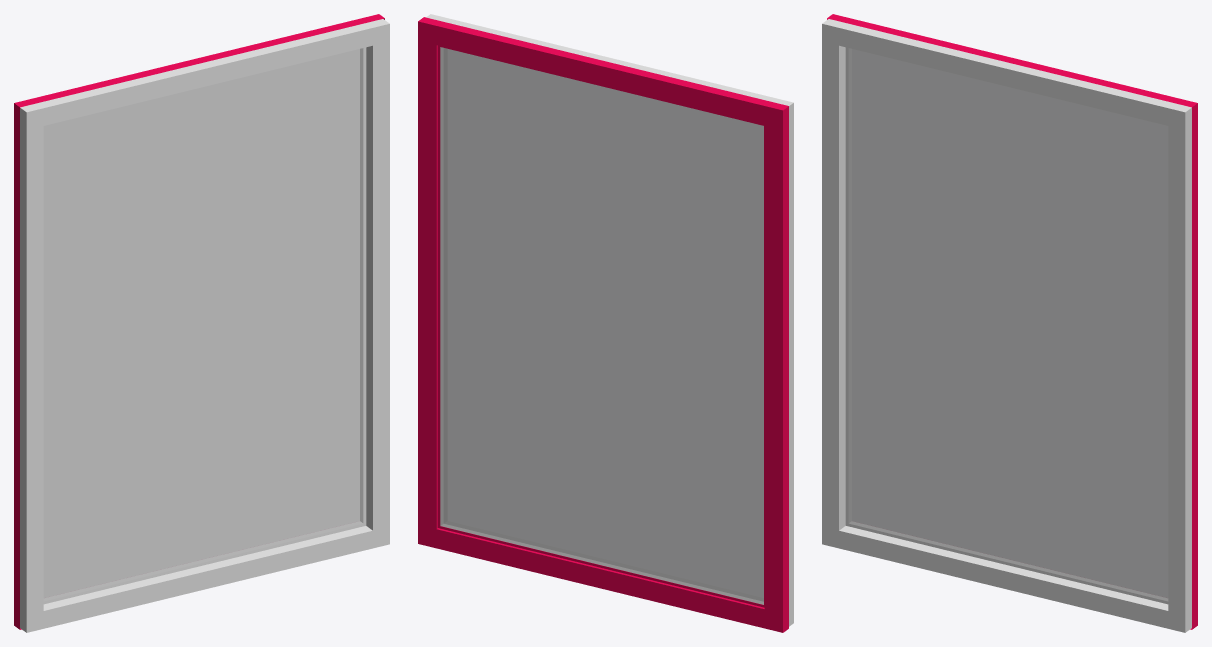
The model's file is 1_windows.glb.
3 views of the same model, side by side, from view 1: azimuth 30°, elevation 25°; view 2: azimuth 150°, elevation 25°; view 3: azimuth 330°, elevation 25° (orthographic).
Visible parts, largest first — view 1: 3DGeom-3, 3DGeom-2, 3DGeom-1; view 2: 3DGeom-3, 3DGeom-1, 3DGeom-2; view 3: 3DGeom-3, 3DGeom-2, 3DGeom-1.
Boxes of the visible parts, left/top/right/bottom form: 3DGeom-3: left=43, top=48, right=363, bottom=601; 3DGeom-2: left=20, top=19, right=389, bottom=632; 3DGeom-1: left=14, top=14, right=384, bottom=629; 3DGeom-3: left=440, top=47, right=763, bottom=604; 3DGeom-1: left=418, top=17, right=788, bottom=632; 3DGeom-2: left=426, top=14, right=793, bottom=626; 3DGeom-3: left=848, top=48, right=1168, bottom=601; 3DGeom-2: left=822, top=19, right=1191, bottom=632; 3DGeom-1: left=827, top=14, right=1197, bottom=629.
Bounding box in the file's own units: 1.29 × 1.76 × 0.0716.
